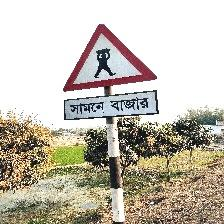Market-in-front: (62, 24, 159, 121)
